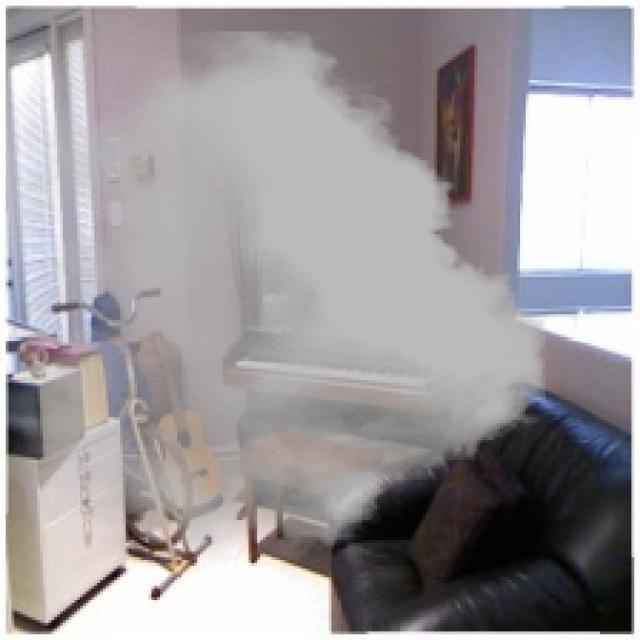Smoke: (8, 32, 546, 554)
